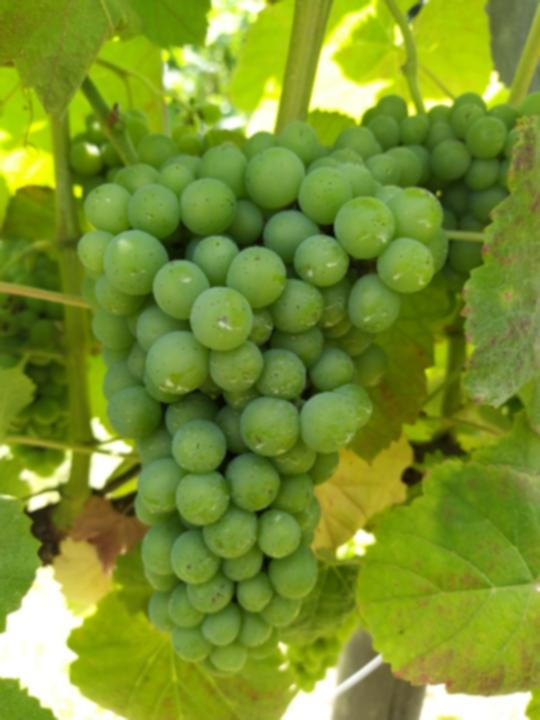grape: (76, 141, 451, 675)
